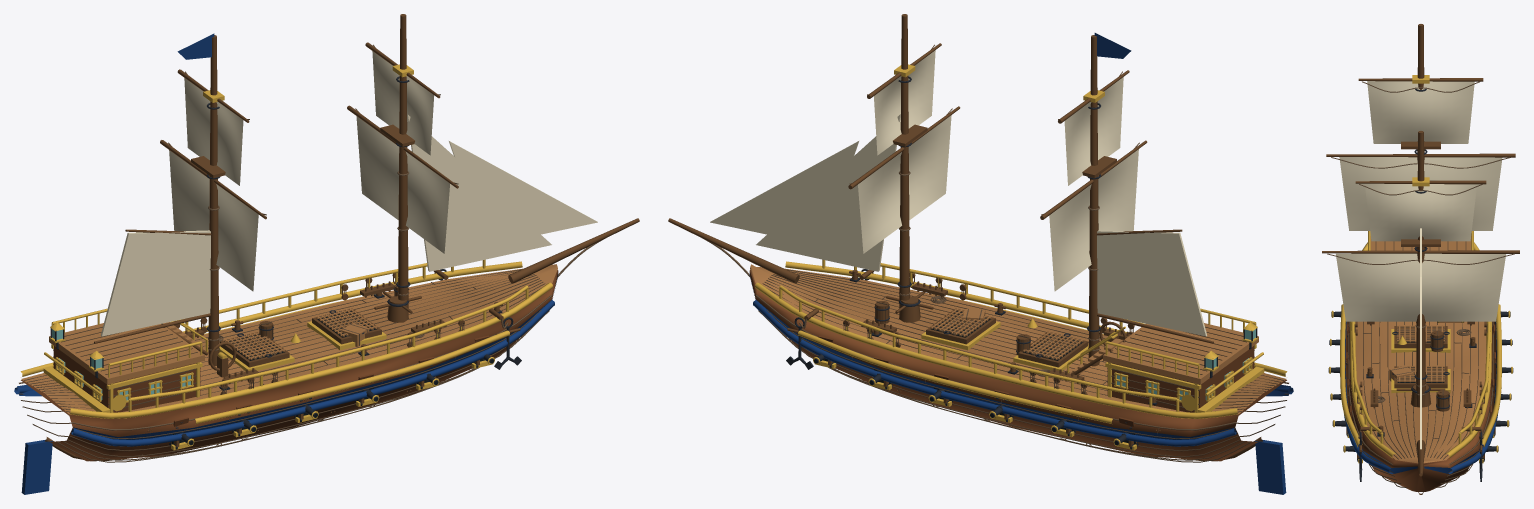
File: brig.glb
3 views of the same model, side by side, from view 1: azimuth 30°, elevation 25°; view 2: azimuth 150°, elevation 25°; view 3: azimuth 270°, elevation 25° (orthographic). The views are drawn at different scales.
Visible parts, largest first — view 1: Mesh_Batch_5, Mesh_Batch_2, Mesh_Batch_0, Mesh_Batch_7, SailSurface_6, Mesh_Batch_13, SailSurface_4, Mesh_Batch_16, SailSurface_2, SailSurface_0, Mesh_Batch_6, SailSurface_5 (+10 smaller); view 2: Mesh_Batch_5, Mesh_Batch_2, Mesh_Batch_7, Mesh_Batch_0, SailSurface_6, Mesh_Batch_13, SailSurface_4, Mesh_Batch_16, SailSurface_2, SailSurface_0, Mesh_Batch_6, SailSurface_5 (+10 smaller); view 3: Mesh_Batch_2, SailSurface_2, SailSurface_1, SailSurface_3, SailSurface_0, Mesh_Batch_5, Mesh_Batch_7, Mesh_Batch_0, Mesh_Batch_13, Mesh_Batch_16, Mesh_Batch_20, Mesh_Batch_33 (+9 smaller).
Part boxes in pixels (<box>): Mesh_Batch_5: <box>20,64,552,450</box>; Mesh_Batch_2: <box>21,264,557,414</box>; Mesh_Batch_0: <box>21,270,558,461</box>; Mesh_Batch_7: <box>45,14,639,461</box>; SailSurface_6: <box>100,230,210,336</box>; Mesh_Batch_13: <box>17,269,549,462</box>; SailSurface_4: <box>407,114,551,271</box>; Mesh_Batch_16: <box>49,308,377,384</box>; SailSurface_2: <box>356,116,449,253</box>; SailSurface_0: <box>169,150,258,291</box>; Mesh_Batch_6: <box>14,33,554,494</box>; SailSurface_5: <box>449,141,597,234</box>; Mesh_Batch_5: <box>755,64,1287,450</box>; Mesh_Batch_2: <box>750,264,1286,414</box>; Mesh_Batch_7: <box>668,14,1262,461</box>; Mesh_Batch_0: <box>749,270,1286,461</box>; SailSurface_6: <box>1097,230,1207,336</box>; Mesh_Batch_13: <box>758,269,1290,462</box>; SailSurface_4: <box>756,114,900,271</box>; Mesh_Batch_16: <box>930,308,1258,384</box>; SailSurface_2: <box>858,115,951,253</box>; SailSurface_0: <box>1049,149,1138,291</box>; Mesh_Batch_6: <box>753,33,1293,494</box>; SailSurface_5: <box>710,141,858,245</box>; Mesh_Batch_2: <box>1355,321,1486,463</box>; SailSurface_2: <box>1336,253,1505,321</box>; SailSurface_1: <box>1367,81,1474,143</box>; SailSurface_3: <box>1364,183,1476,241</box>; SailSurface_0: <box>1339,157,1502,230</box>; Mesh_Batch_5: <box>1329,75,1512,463</box>; Mesh_Batch_7: <box>1345,24,1496,494</box>; Mesh_Batch_0: <box>1345,321,1496,491</box>; Mesh_Batch_13: <box>1345,241,1496,487</box>; Mesh_Batch_16: <box>1370,236,1471,382</box>; Mesh_Batch_20: <box>1328,89,1513,481</box>; Mesh_Batch_33: <box>1322,180,1519,253</box>.
Size of the model in its own units: 12.51 by 8.09 by 3.83.
